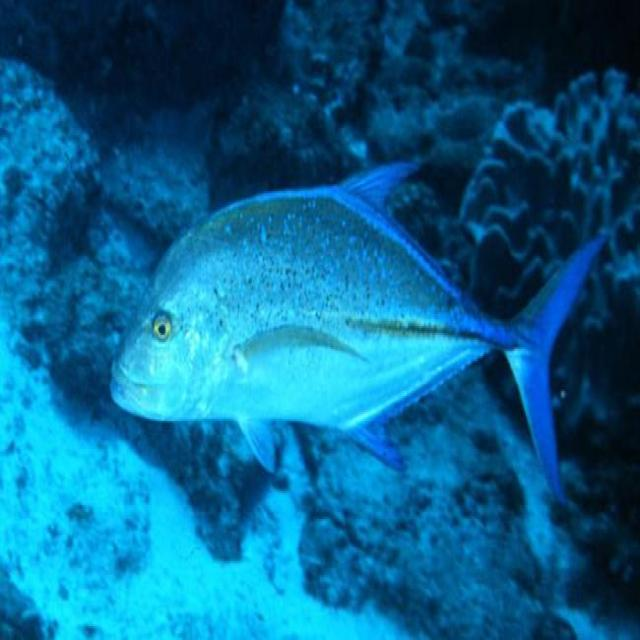ikan: (108, 158, 610, 505)
